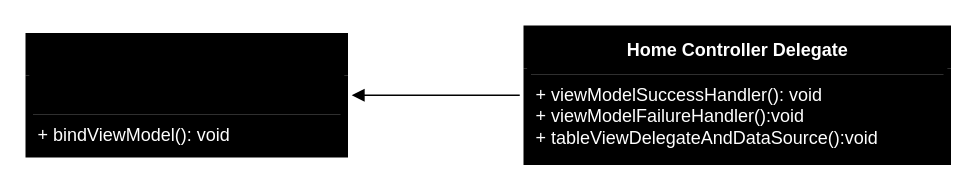
Some shapes in this 977 by 192 pixel diagram are drawn without their labels. The box of each missing label's shape, as (x1, y1, x2, y2) in pixels:
+ viewModel: HomeViewModel: (28, 75, 344, 114)
Home Controller: (25, 32, 347, 157)
